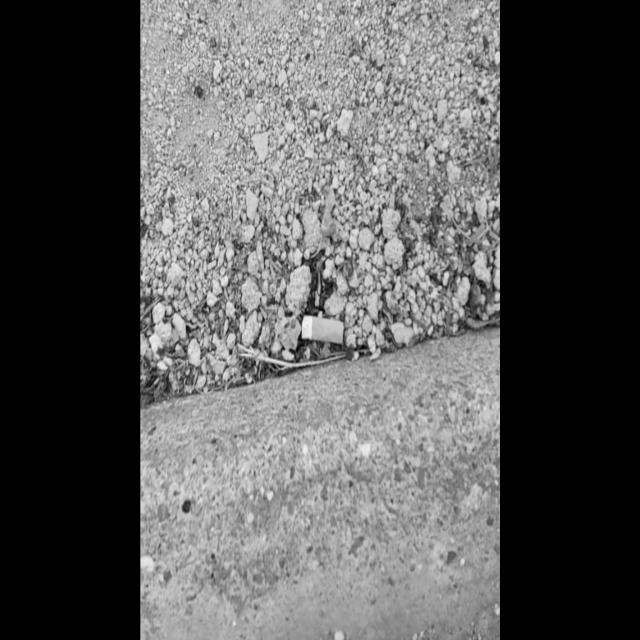other waste: (300, 314, 344, 346)
